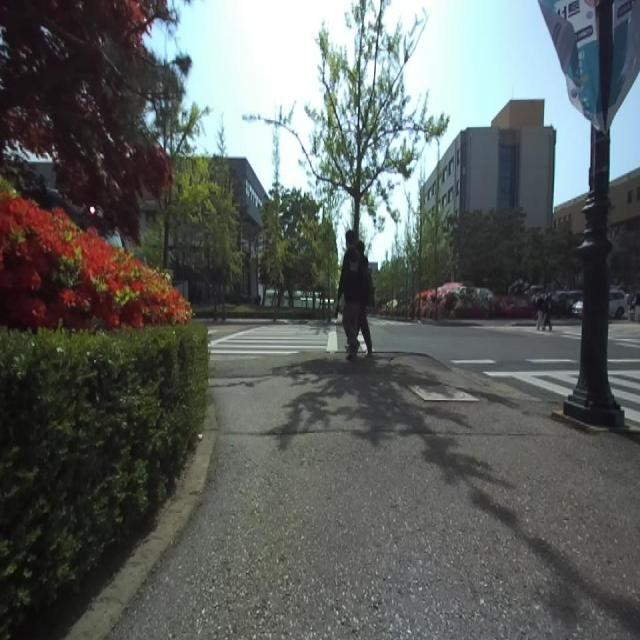sidewalk: (112, 353, 640, 639)
